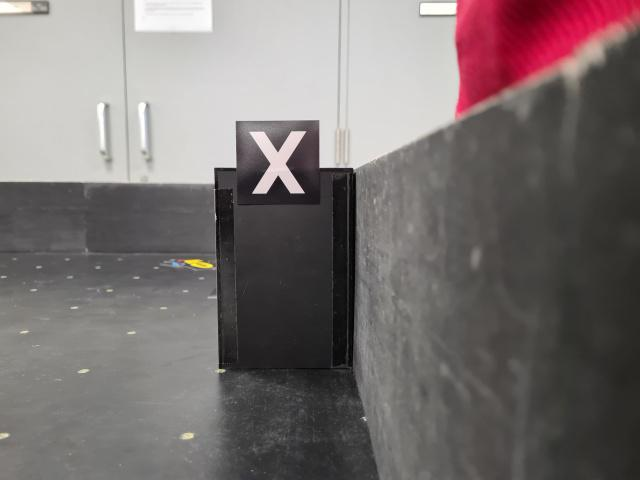x: (234, 119, 322, 206)
